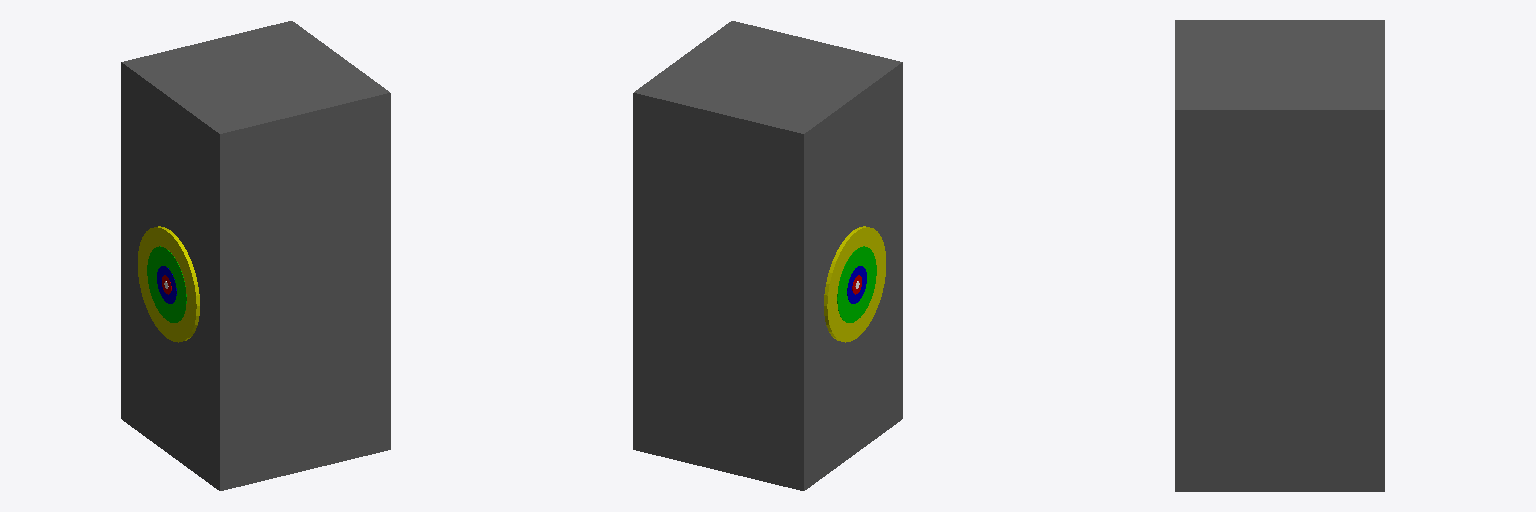
robot.urdf — simple_box:
<?xml version="1.0"?>
<robot name="simple_box">
	<material name="white">
		<color rgba="1 1 1 1"/>
	</material>

	<material name="blue">
		<color rgba= "0 0 0.8 1"/>
	</material>

	<material name="red">
		<color rgba="0.8 0 0 1"/>
	</material>

	<material name="green">
		<color rgba="0 0.8 0 1"/>
	</material>

	<material name="yellow">
		<color rgba="0.8 0.8 0 1"/>
	</material>

	<material name="cyan">
		<color rgba="0 0.8 0.8 0.8"/>
	</material>

	<material name="purple">
		<color rgba="0.8 0 0.8 1"/>
	</material>

	<material name="gray">
		<color rgba="0.4 0.4 0.4 1"/>
	</material>

	<material name="black">
		<color rgba="0 0 0 0.4"/>
	</material>

	<link name="world"/>

	<joint name="fixed" type="fixed">
		<parent link="world"/>
		<child link="base_link"/>
		<origin xyz="0 0 0"/>
	</joint>

	<link name="base_link">
		<inertial>
			<origin xyz="0 0 1" />
			<mass value="1.0" />
			<inertia  ixx="1.0" ixy="0.0"  ixz="0.0"  iyy="100.0"  iyz="0.0"  izz="1.0" />
		</inertial>
		<visual>
			<origin xyz="0 0 1"/>
			<geometry>
				<box size="1 1 2" />
			</geometry>
			<material name="gray"/>
		</visual>
		<collision>
			<origin xyz="0 0 0.25"/>
			<geometry>
				<box size="1 1 0.5" />
			</geometry>
		</collision>
	</link>

	<joint name="joint_button" type="fixed">
		<parent link="base_link"/>
		<child link="button"/>
		<origin xyz="-0.50 0 0.96"/>
	</joint>

	<link name="button">
		<inertial>
			<origin xyz="0 0 0" />
			<mass value="1.0" />
			<inertia  ixx="1.0" ixy="0.0"  ixz="0.0"  iyy="100.0"  iyz="0.0"  izz="1.0" />
		</inertial>
		<visual>
			<origin xyz="0 0 0" rpy="0 1.57075 0"/>
			<geometry>
				<cylinder length="0.05" radius="0.02" />
			</geometry>
			<material name="white"/>
		</visual>
		<!--collision>
			<origin xyz="0 0 0" rpy="0 1.57075 0"/>
			<geometry>
				<box size="1 1 2" />
			</geometry>
		</collision-->
	</link>

	<joint name="joint_circle1" type="fixed">
		<parent link="base_link"/>
		<child link="circle1"/>
		<origin xyz="-0.499 0 0.96"/>
	</joint>

	<link name="circle1">
		<inertial>
			<origin xyz="0 0 0" />
			<mass value="1.0" />
			<inertia  ixx="1.0" ixy="0.0"  ixz="0.0"  iyy="100.0"  iyz="0.0"  izz="1.0" />
		</inertial>
		<visual>
			<origin xyz="0 0 0" rpy="0 1.57075 0"/>
			<geometry>
				<cylinder length="0.05" radius="0.05" />
			</geometry>
			<material name="red"/>
		</visual>
		<!--collision>
			<origin xyz="0 0 0" rpy="0 1.57075 0"/>
			<geometry>
				<box size="1 1 2" />
			</geometry>
		</collision-->
	</link>

	<joint name="joint_circle2" type="fixed">
		<parent link="base_link"/>
		<child link="circle2"/>
		<origin xyz="-0.498 0 0.96"/>
	</joint>

	<link name="circle2">
		<inertial>
			<origin xyz="0 0 0" />
			<mass value="1.0" />
			<inertia  ixx="1.0" ixy="0.0"  ixz="0.0"  iyy="100.0"  iyz="0.0"  izz="1.0" />
		</inertial>
		<visual>
			<origin xyz="0 0 0" rpy="0 1.57075 0"/>
			<geometry>
				<cylinder length="0.05" radius="0.1" />
			</geometry>
			<material name="blue"/>
		</visual>
		<!--collision>
			<origin xyz="0 0 0" rpy="0 1.57075 0"/>
			<geometry>
				<box size="1 1 2" />
			</geometry>
		</collision-->
	</link>

	<joint name="joint_circle3" type="fixed">
		<parent link="base_link"/>
		<child link="circle3"/>
		<origin xyz="-0.497 0 0.96"/>
	</joint>

	<link name="circle3">
		<inertial>
			<origin xyz="0 0 0" />
			<mass value="1.0" />
			<inertia  ixx="1.0" ixy="0.0"  ixz="0.0"  iyy="100.0"  iyz="0.0"  izz="1.0" />
		</inertial>
		<visual>
			<origin xyz="0 0 0" rpy="0 1.57075 0"/>
			<geometry>
				<cylinder length="0.05" radius="0.2" />
			</geometry>
			<material name="green"/>
		</visual>
		<!--collision>
			<origin xyz="0 0 0" rpy="0 1.57075 0"/>
			<geometry>
				<box size="1 1 2" />
			</geometry>
		</collision-->
	</link>
	
	<joint name="joint_circle4" type="fixed">
		<parent link="base_link"/>
		<child link="circle4"/>
		<origin xyz="-0.496 0 0.96"/>
	</joint>

	<link name="circle4">
		<inertial>
			<origin xyz="0 0 0" />
			<mass value="1.0" />
			<inertia  ixx="1.0" ixy="0.0"  ixz="0.0"  iyy="100.0"  iyz="0.0"  izz="1.0" />
		</inertial>
		<visual>
			<origin xyz="0 0 0" rpy="0 1.57075 0"/>
			<geometry>
				<cylinder length="0.05" radius="0.3" />
			</geometry>
			<material name="yellow"/>
		</visual>
		<!--collision>
			<origin xyz="0 0 0" rpy="0 1.57075 0"/>
			<geometry>
				<box size="1 1 2" />
			</geometry>
		</collision-->
	</link>


	<gazebo reference="base_link">
		<material>Gazebo/Grey</material>
		<mu1>1.0</mu1>
		<mu2>1.0</mu2>
	</gazebo>
	
	<gazebo reference="button">
		<!-- <material>Gazebo/White</material> -->
		<mu1>1.0</mu1>
		<mu2>1.0</mu2>
	</gazebo>

	<gazebo reference="circle1">
		<material>Gazebo/Red</material>
		<mu1>1.0</mu1>
		<mu2>1.0</mu2>
	</gazebo>
	<gazebo reference="circle2">
		<material>Gazebo/Blue</material>
		<mu1>1.0</mu1>
		<mu2>1.0</mu2>
	</gazebo>
	<gazebo reference="circle3">
		<material>Gazebo/Green</material>
		<mu1>1.0</mu1>
		<mu2>1.0</mu2>
	</gazebo>
	<gazebo reference="circle4">
		<material>Gazebo/Yellow</material>
		<mu1>1.0</mu1>
		<mu2>1.0</mu2>
	</gazebo>
</robot>

--- Facts derived from the render (not from the file) ---
Views: 3 orthographic renders of the robot side by side, from view 1: azimuth 30°, elevation 25°; view 2: azimuth 150°, elevation 25°; view 3: azimuth 270°, elevation 25°.
Robot: simple_box — 7 links, 6 joints (6 fixed); root link world; default pose: all joints at 0.
Visible links, largest first — view 1: base_link, circle4, circle3; view 2: base_link, circle4, circle3; view 3: base_link.
Boxes of the visible links, bbox=[...] form: base_link: bbox=[121, 21, 390, 490]; circle4: bbox=[138, 226, 199, 342]; circle3: bbox=[147, 246, 186, 322]; base_link: bbox=[633, 21, 902, 490]; circle4: bbox=[824, 226, 885, 342]; circle3: bbox=[837, 246, 876, 322]; base_link: bbox=[1175, 20, 1384, 491].
Size in the robot's own frame: 1.02 by 1 by 2 metres.
Geometry: primitives only (box / cylinder / sphere), no mesh files.